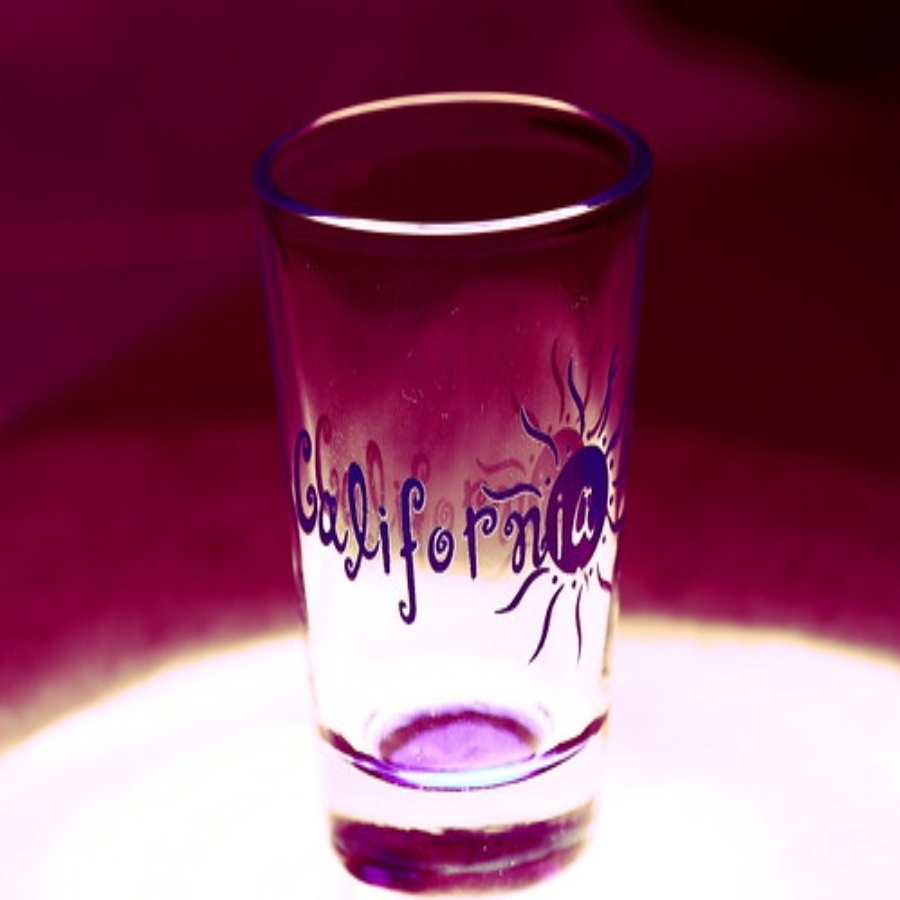whiskey: (245, 109, 653, 883)
